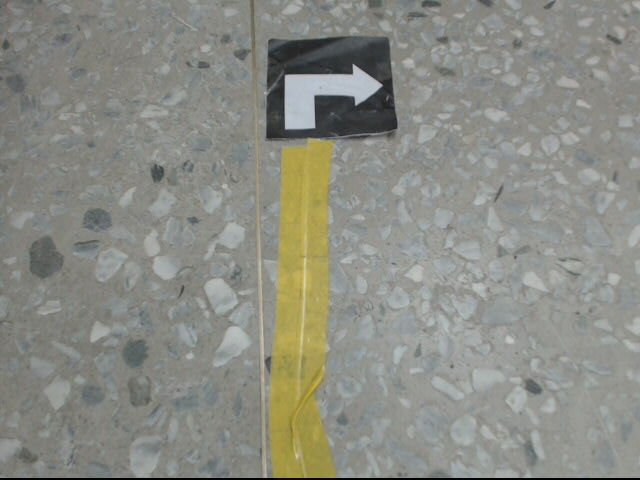right: (268, 37, 400, 138)
